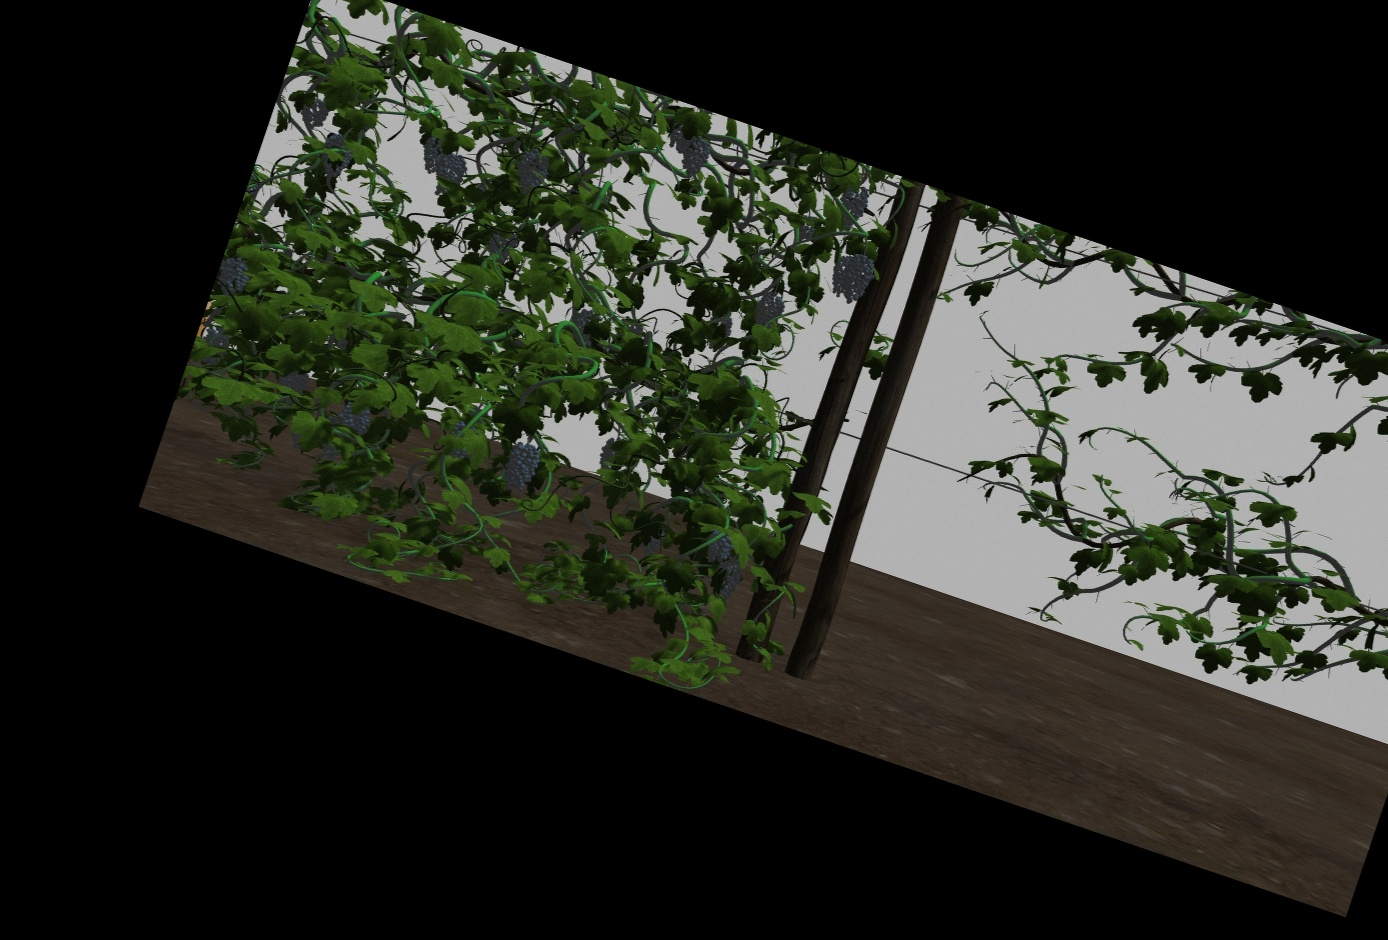grape: (503, 441, 538, 490), (514, 149, 548, 196), (845, 254, 872, 303), (434, 153, 464, 196), (679, 135, 709, 176), (321, 135, 351, 174), (839, 184, 864, 228), (219, 259, 248, 294), (339, 404, 369, 435), (755, 293, 782, 327), (418, 136, 444, 171), (706, 530, 732, 564), (301, 98, 328, 129), (830, 254, 849, 296), (718, 563, 740, 598)
